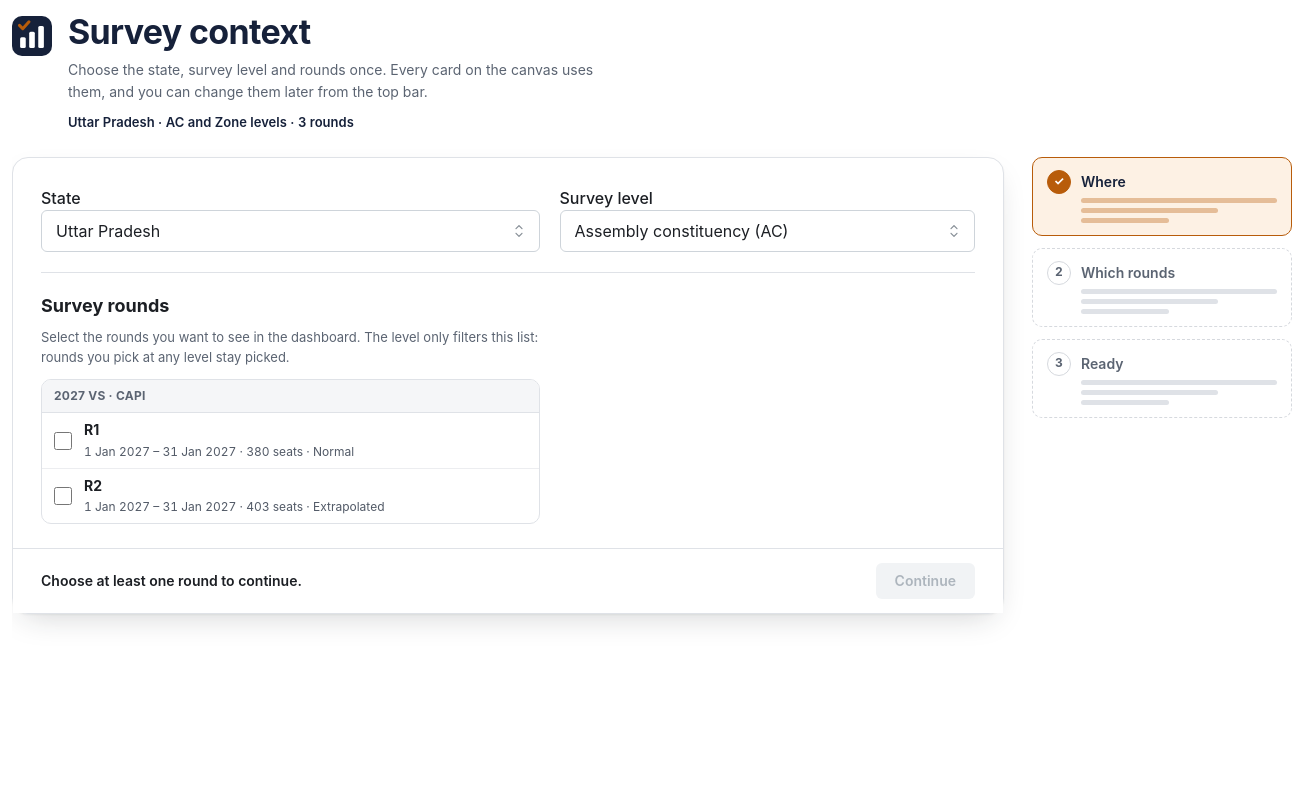
Test case: ContextStep › Comparison appears once a round is chosen, not before
The image size is (1292, 812).
Expected: the heading "Comparison" is not shown
Click the checkbox named "2027 VS CAPI R1" at (63, 441), box [54, 432, 72, 450]
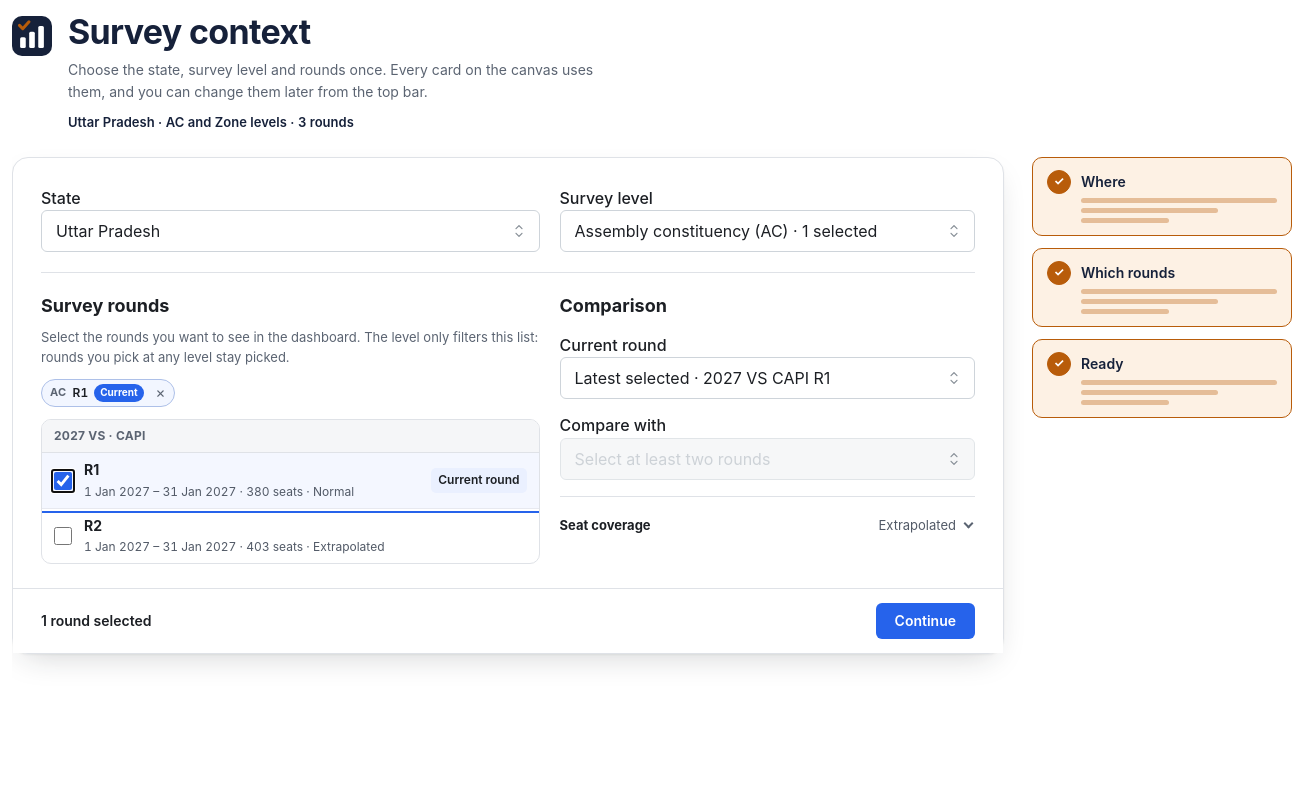
Expected: the heading "Comparison" is shown, [560, 295, 667, 316]
